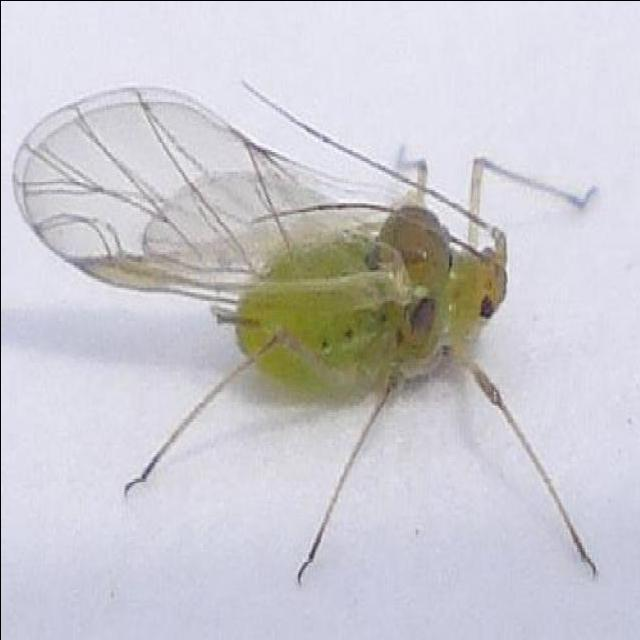aphid: (21, 109, 525, 442)
